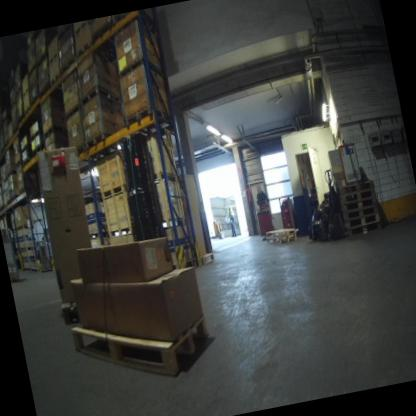pallet: (69, 298, 214, 395), (122, 103, 175, 142), (116, 53, 162, 84), (77, 80, 121, 112), (83, 126, 123, 159), (338, 187, 377, 204), (337, 178, 375, 195), (340, 195, 378, 212), (344, 212, 381, 229), (346, 220, 382, 237), (342, 204, 379, 220), (87, 18, 111, 40), (99, 182, 128, 200), (265, 231, 298, 246), (41, 122, 68, 140), (265, 225, 297, 240), (72, 38, 94, 59), (56, 27, 76, 49), (107, 224, 133, 239), (63, 101, 83, 120), (58, 56, 77, 74), (71, 20, 92, 36), (110, 12, 131, 27), (21, 86, 31, 115), (34, 51, 50, 69), (29, 141, 45, 158), (36, 80, 52, 97), (19, 182, 39, 194), (46, 50, 61, 65), (88, 229, 109, 239), (48, 71, 62, 85), (19, 242, 36, 253), (28, 94, 41, 108), (15, 221, 33, 231), (26, 63, 38, 78), (29, 128, 42, 141), (20, 142, 31, 154), (13, 155, 23, 168), (9, 192, 22, 202), (21, 156, 32, 167), (6, 168, 17, 178), (3, 200, 11, 209), (10, 100, 17, 109), (23, 264, 31, 270), (3, 176, 9, 182), (8, 134, 13, 141), (0, 204, 5, 210), (2, 188, 6, 193)
pallet_truck: (315, 168, 346, 239), (254, 199, 276, 241), (206, 215, 233, 241)
